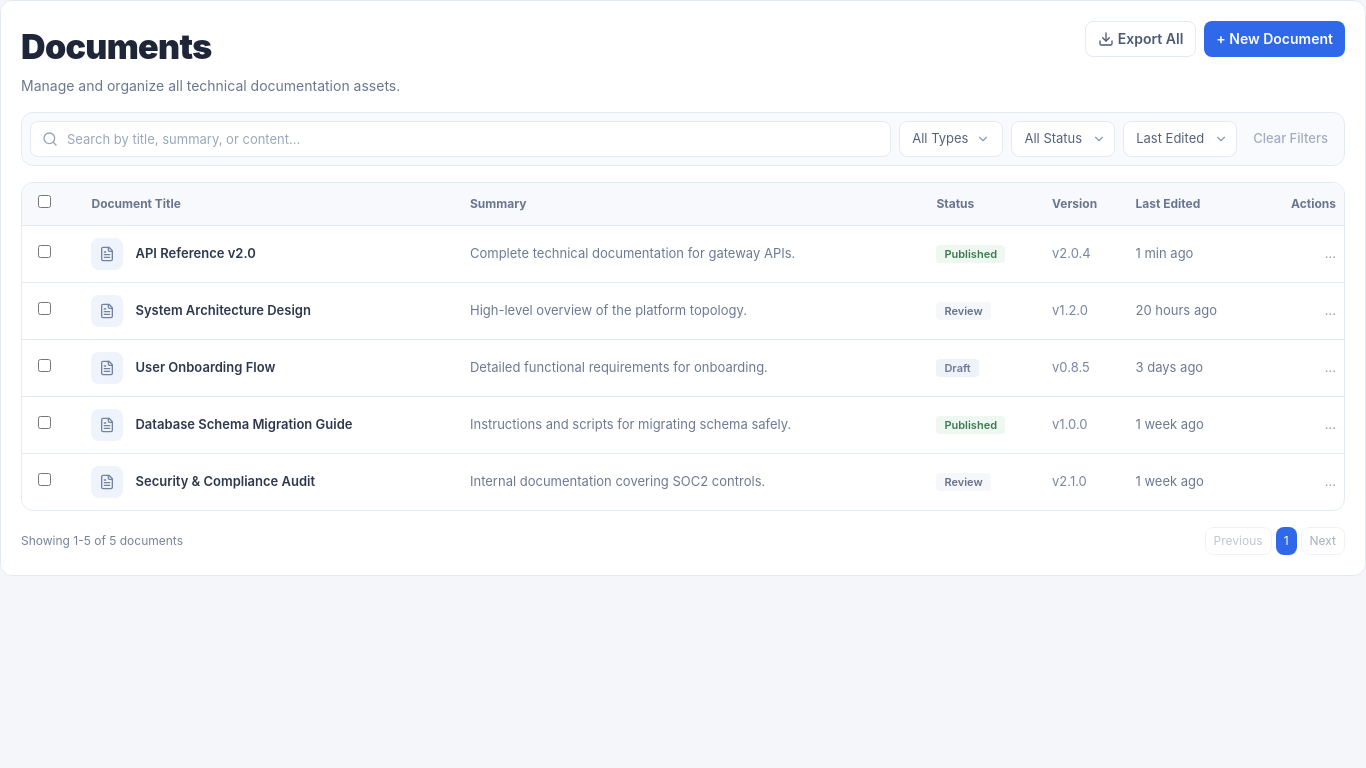
Test case: DocumentsPage › filters documents by search and status
Expected: the text "API Reference v2.0" is shown, [136,244,256,264]
In the search field with placeholder "Search by title, summary, or content...": [461, 139] box [30,121,891,157], type "security"
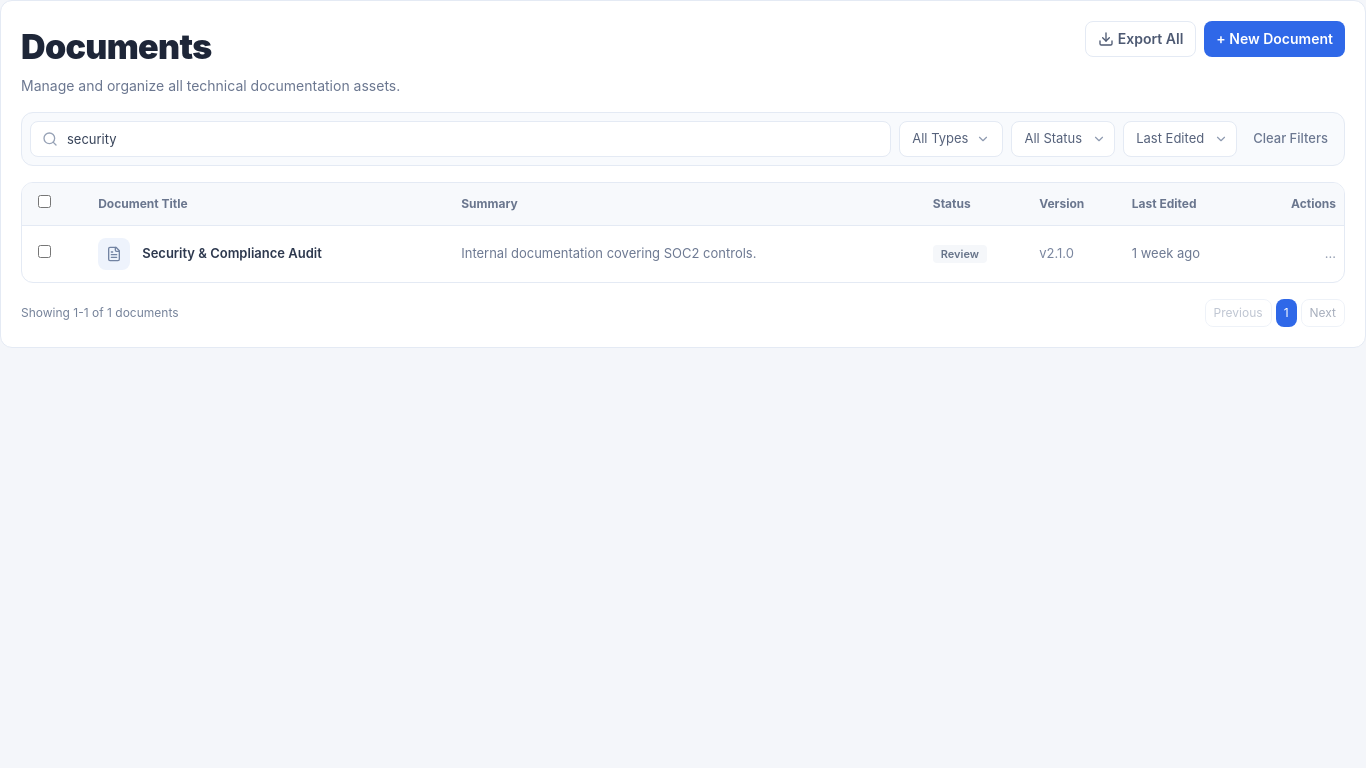
Expected: the text "Security & Compliance Audit" is shown, [142,244,322,264]
Result: the text "API Reference v2.0" is gone
Select "Published" in the dropdown labelled "All Status": [1063, 139] box [1012,121,1115,157]
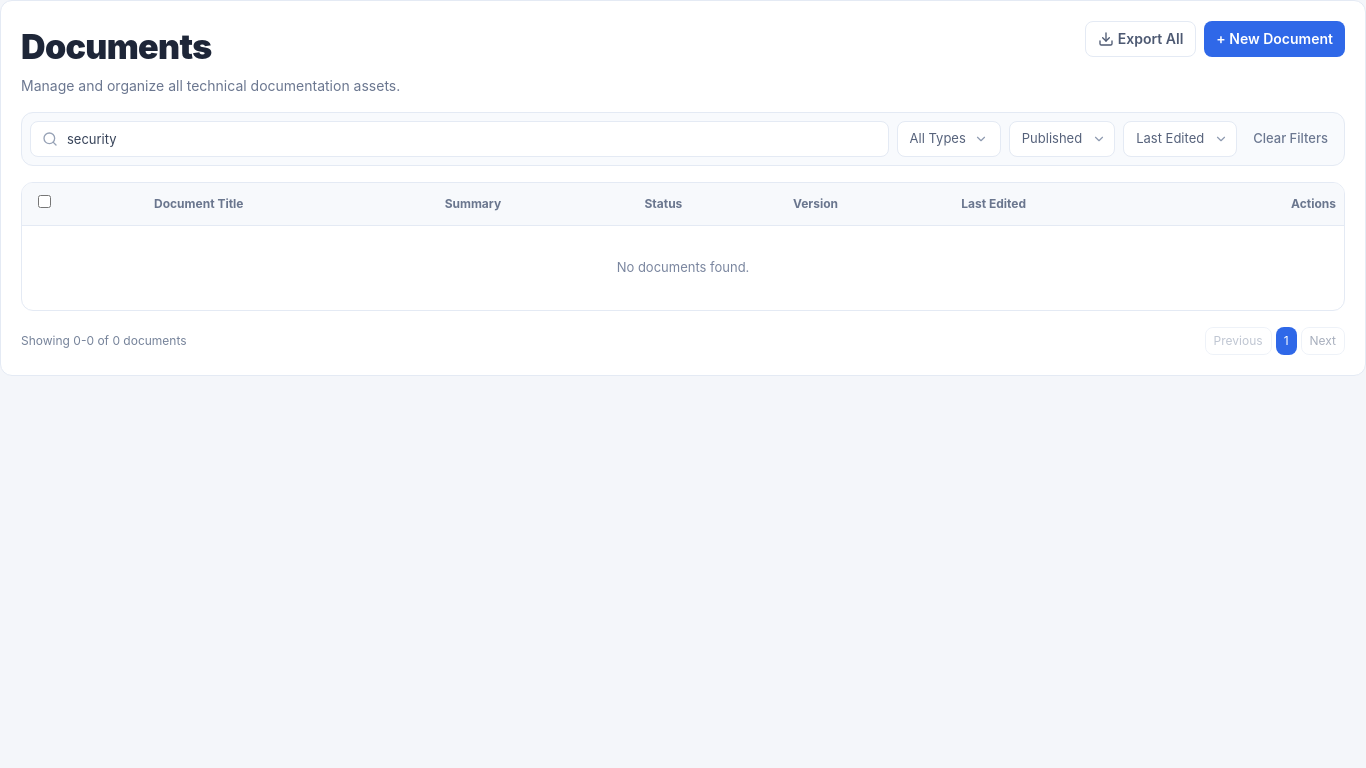
Result: the text "No documents found." is shown at [22,226,1344,310]
Click the button "Clear Filters": [1291, 139] box [1245,121,1336,157]
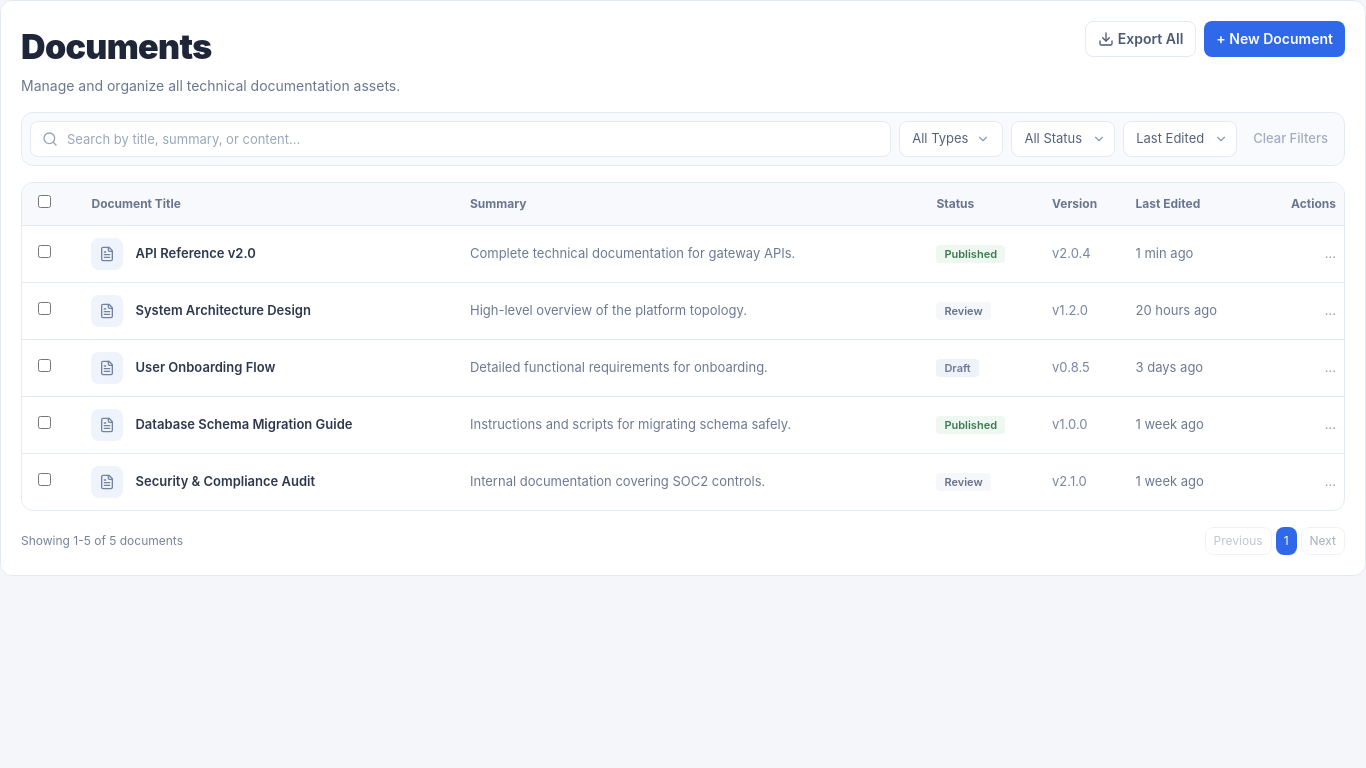
Result: the text "API Reference v2.0" is shown at [136,244,256,264]
